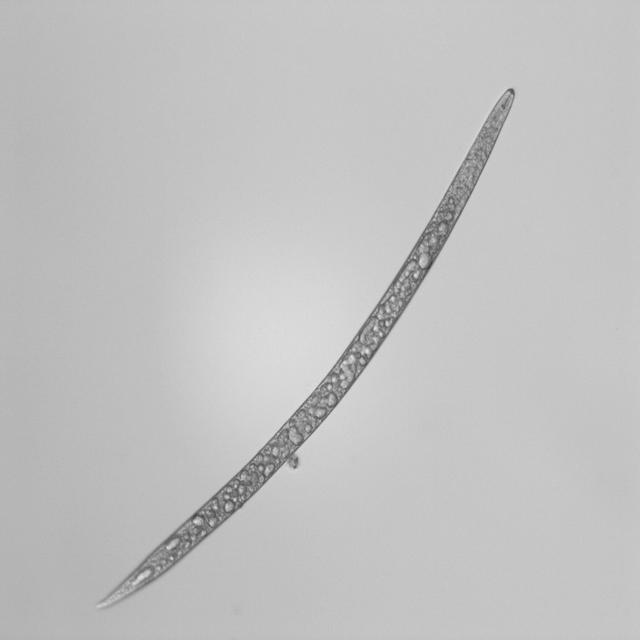Radopholus: (87, 75, 532, 616)
